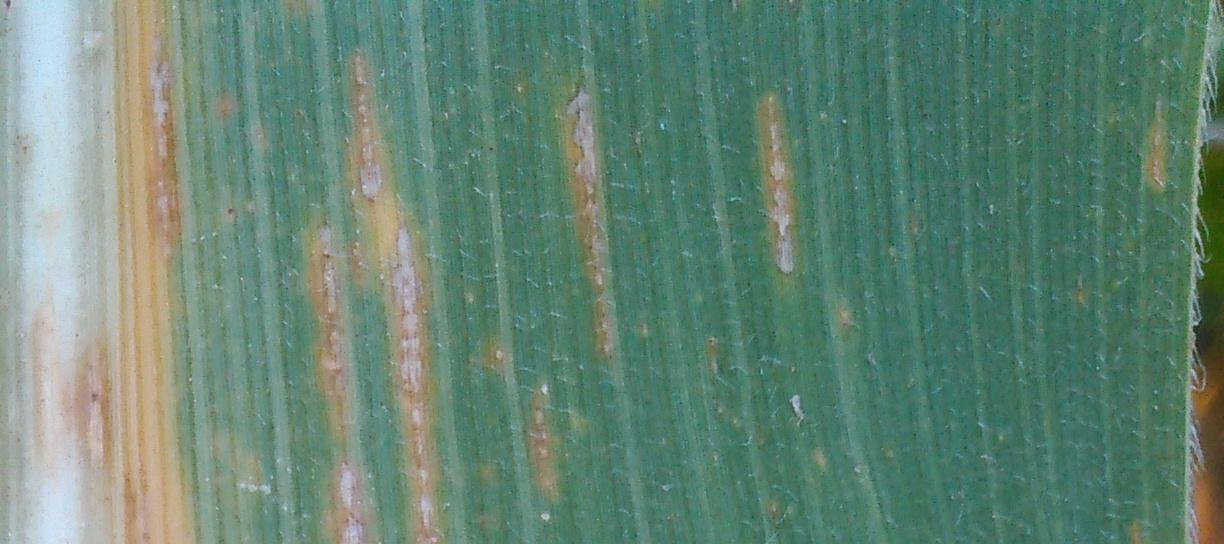tarspot: (484, 140, 501, 156), (222, 201, 237, 217), (2, 1, 14, 14)
